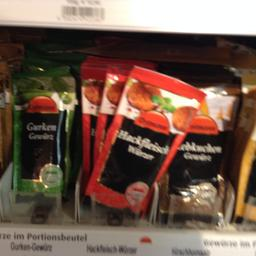spices: (86, 62, 201, 212), (174, 76, 239, 226), (8, 67, 74, 208)
